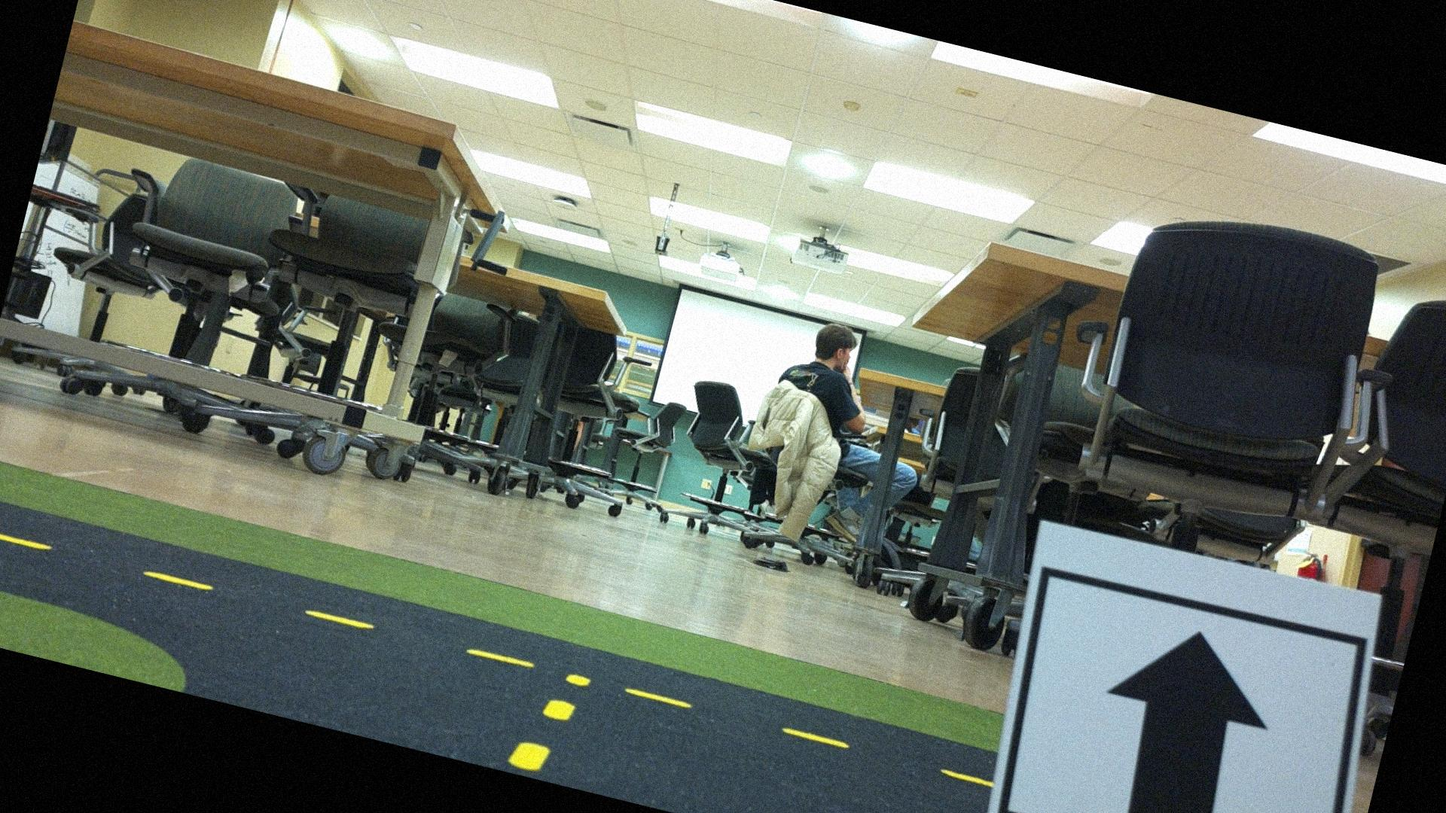gostraight: (981, 522, 1383, 812)
yellowline: (0, 521, 995, 789), (505, 657, 593, 781)
